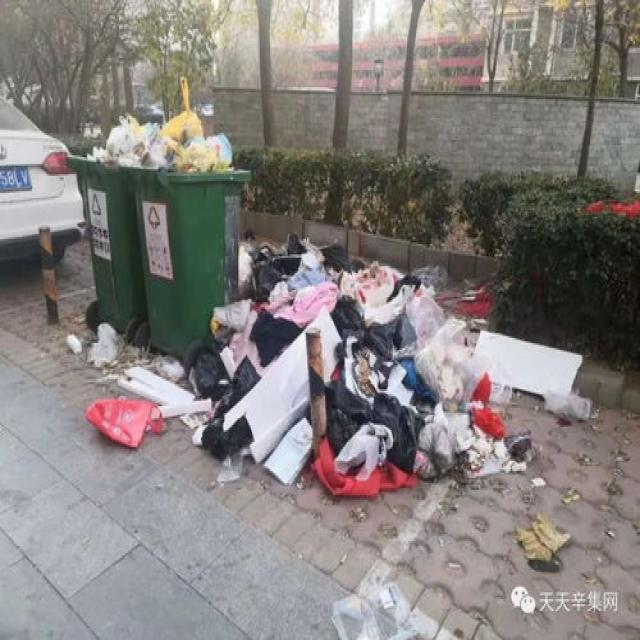garbage: (85, 232, 590, 497)
overflow: (120, 75, 251, 357), (66, 111, 158, 362)
